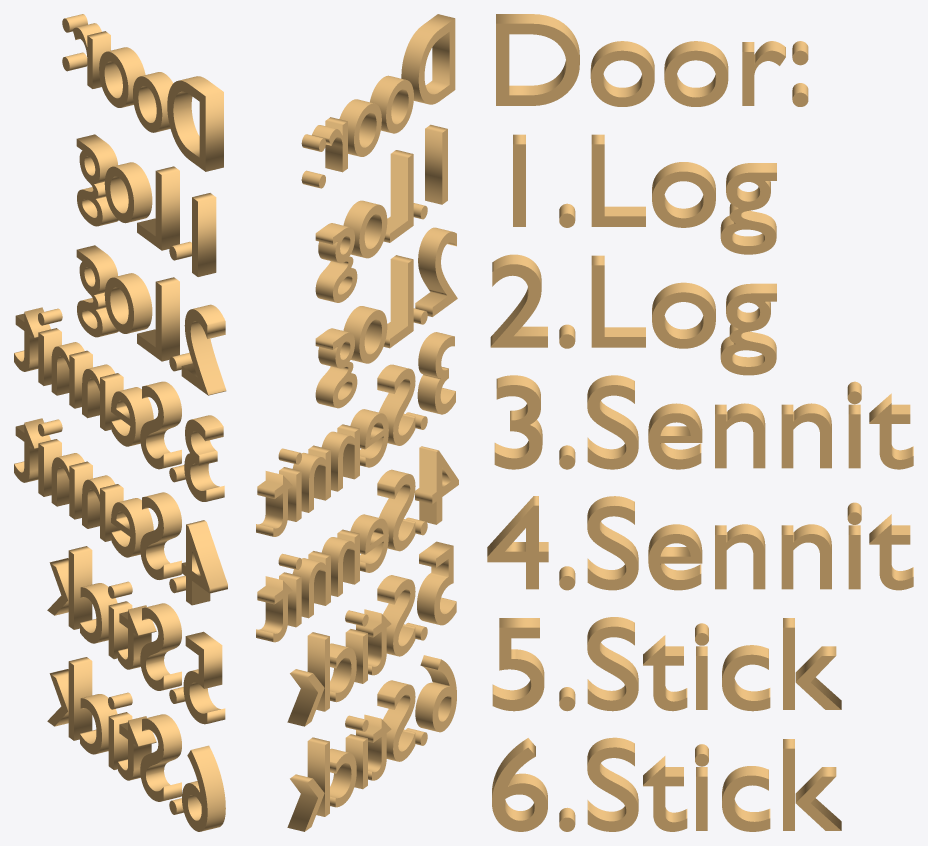
File: ten.fbx
3 renders of one model, left to right at view 1: azimuth 30°, elevation 25°; view 2: azimuth 150°, elevation 25°; view 3: azimuth 270°, elevation 25°, orthographic. The views are drawn at different scales.
Visible parts, largest first — view 1: Text; view 2: Text; view 3: Text.
Part boxes in pixels (x1,y1,x2,y2): Text: (14,14,227,831); Text: (256,14,458,831); Text: (487,14,913,831).
Bounding box in the file's own units: 17.2 × 669 × 320.
